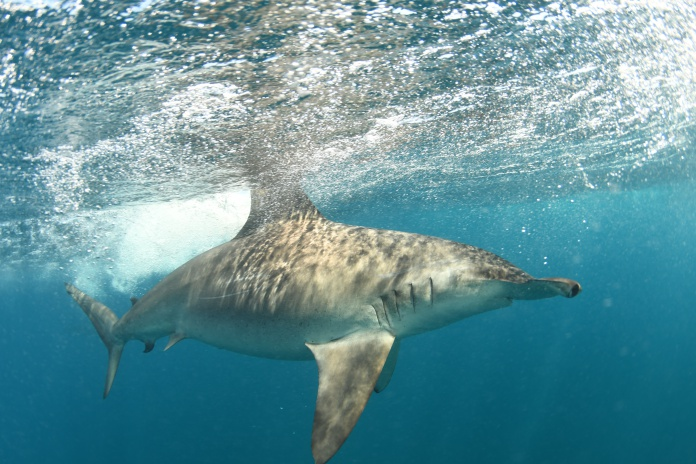Hammer: (30, 146, 585, 464)
